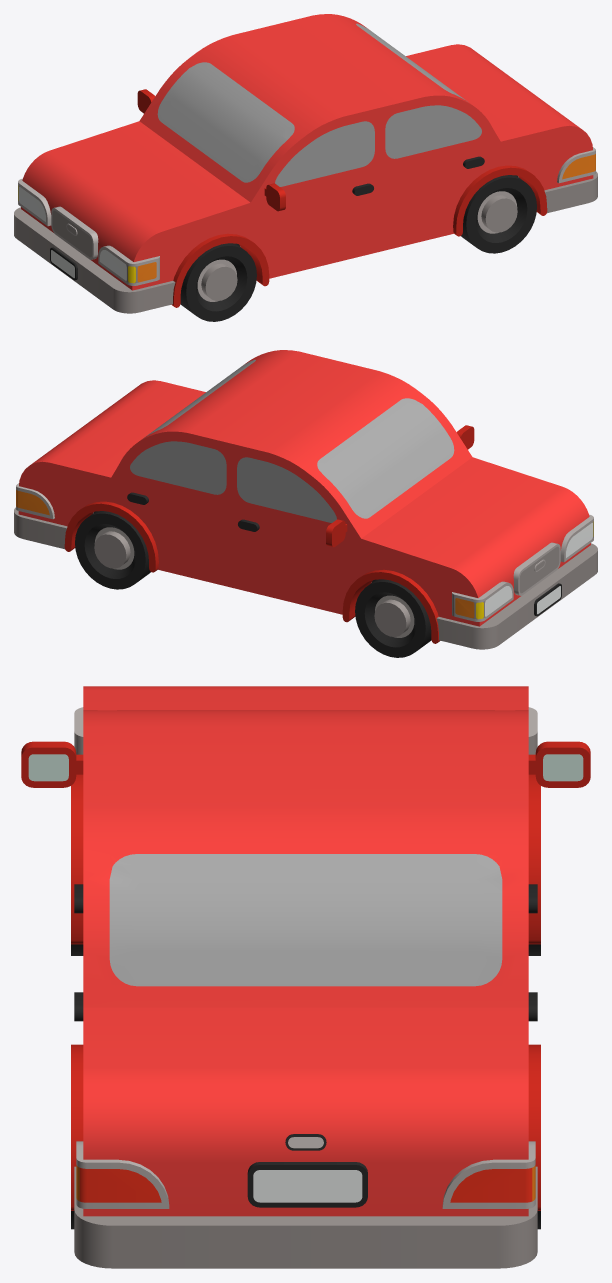
The model's file is City Car Sedan Mod.fbx.
The picture shows the model from 3 angles, top to bottom: view 1: azimuth 30°, elevation 25°; view 2: azimuth 150°, elevation 25°; view 3: azimuth 270°, elevation 25°; orthographic projection. The views are drawn at different scales.
Visible parts, largest first — view 1: City_Car_Sedan, Wheels_Front, Wheels_Back; view 2: City_Car_Sedan, Wheels_Front, Wheels_Back; view 3: City_Car_Sedan.
Part boxes in pixels (bbox=[...]): City_Car_Sedan: bbox=[14, 14, 597, 313]; Wheels_Front: bbox=[180, 243, 256, 321]; Wheels_Back: bbox=[461, 175, 536, 253]; City_Car_Sedan: bbox=[14, 350, 597, 649]; Wheels_Front: bbox=[355, 579, 431, 657]; Wheels_Back: bbox=[75, 511, 150, 589]; City_Car_Sedan: bbox=[21, 686, 590, 1268].
Size of the model in its own units: 964 by 326 by 491.
